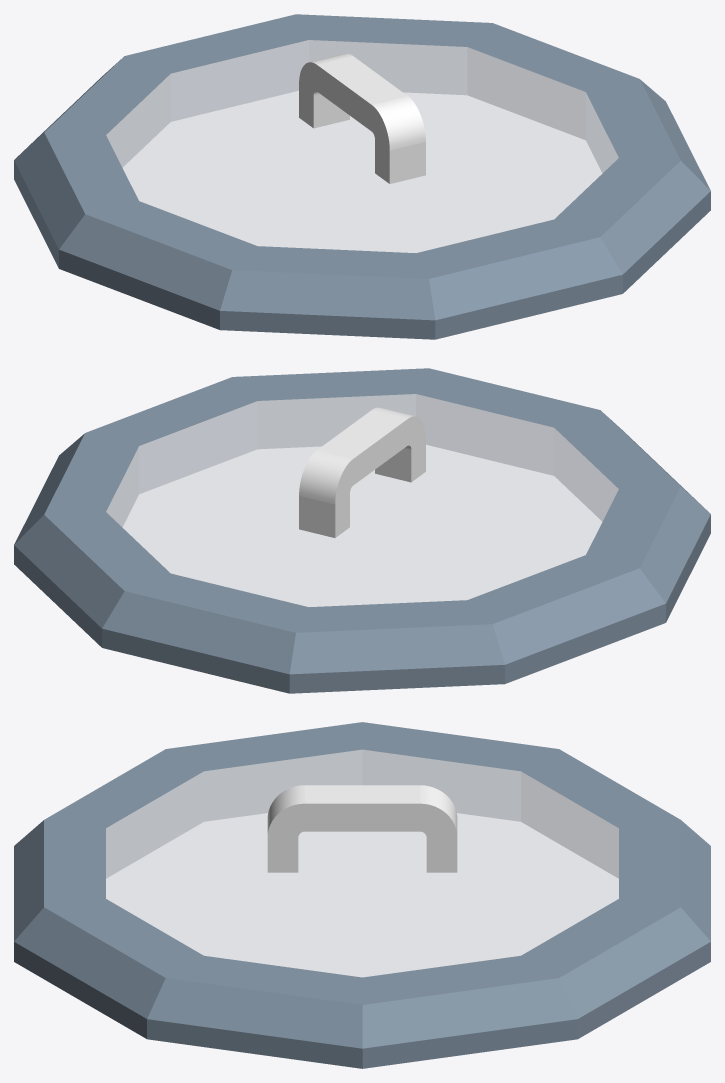
The model's file is potStewLid.fbx.
3 views of the same model, one above another, from view 1: azimuth 30°, elevation 25°; view 2: azimuth 150°, elevation 25°; view 3: azimuth 270°, elevation 25° (orthographic). The views are drawn at different scales.
Visible parts, largest first — view 1: potStewLid; view 2: potStewLid; view 3: potStewLid.
Boxes of the visible parts, <box> form: potStewLid: <box>14,14,710,339</box>; potStewLid: <box>14,368,710,693</box>; potStewLid: <box>14,722,710,1068</box>.
Size of the model in its own units: 6.57 by 1.18 by 6.25.
